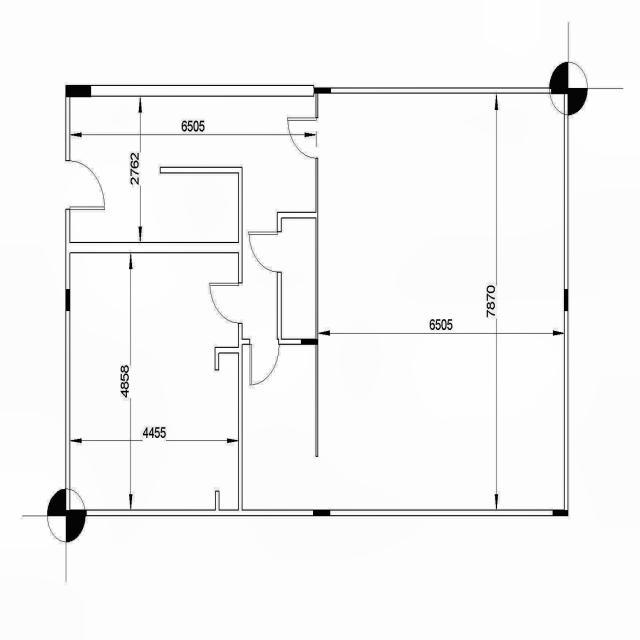Column: (65, 84, 92, 98), (314, 86, 332, 94), (313, 508, 330, 516), (552, 510, 569, 518), (301, 338, 318, 346), (65, 510, 86, 516), (66, 288, 71, 312), (550, 88, 568, 94), (564, 288, 568, 312)
Door: (64, 158, 108, 214), (286, 106, 320, 162), (246, 336, 282, 386), (206, 279, 243, 326), (246, 226, 281, 273)
